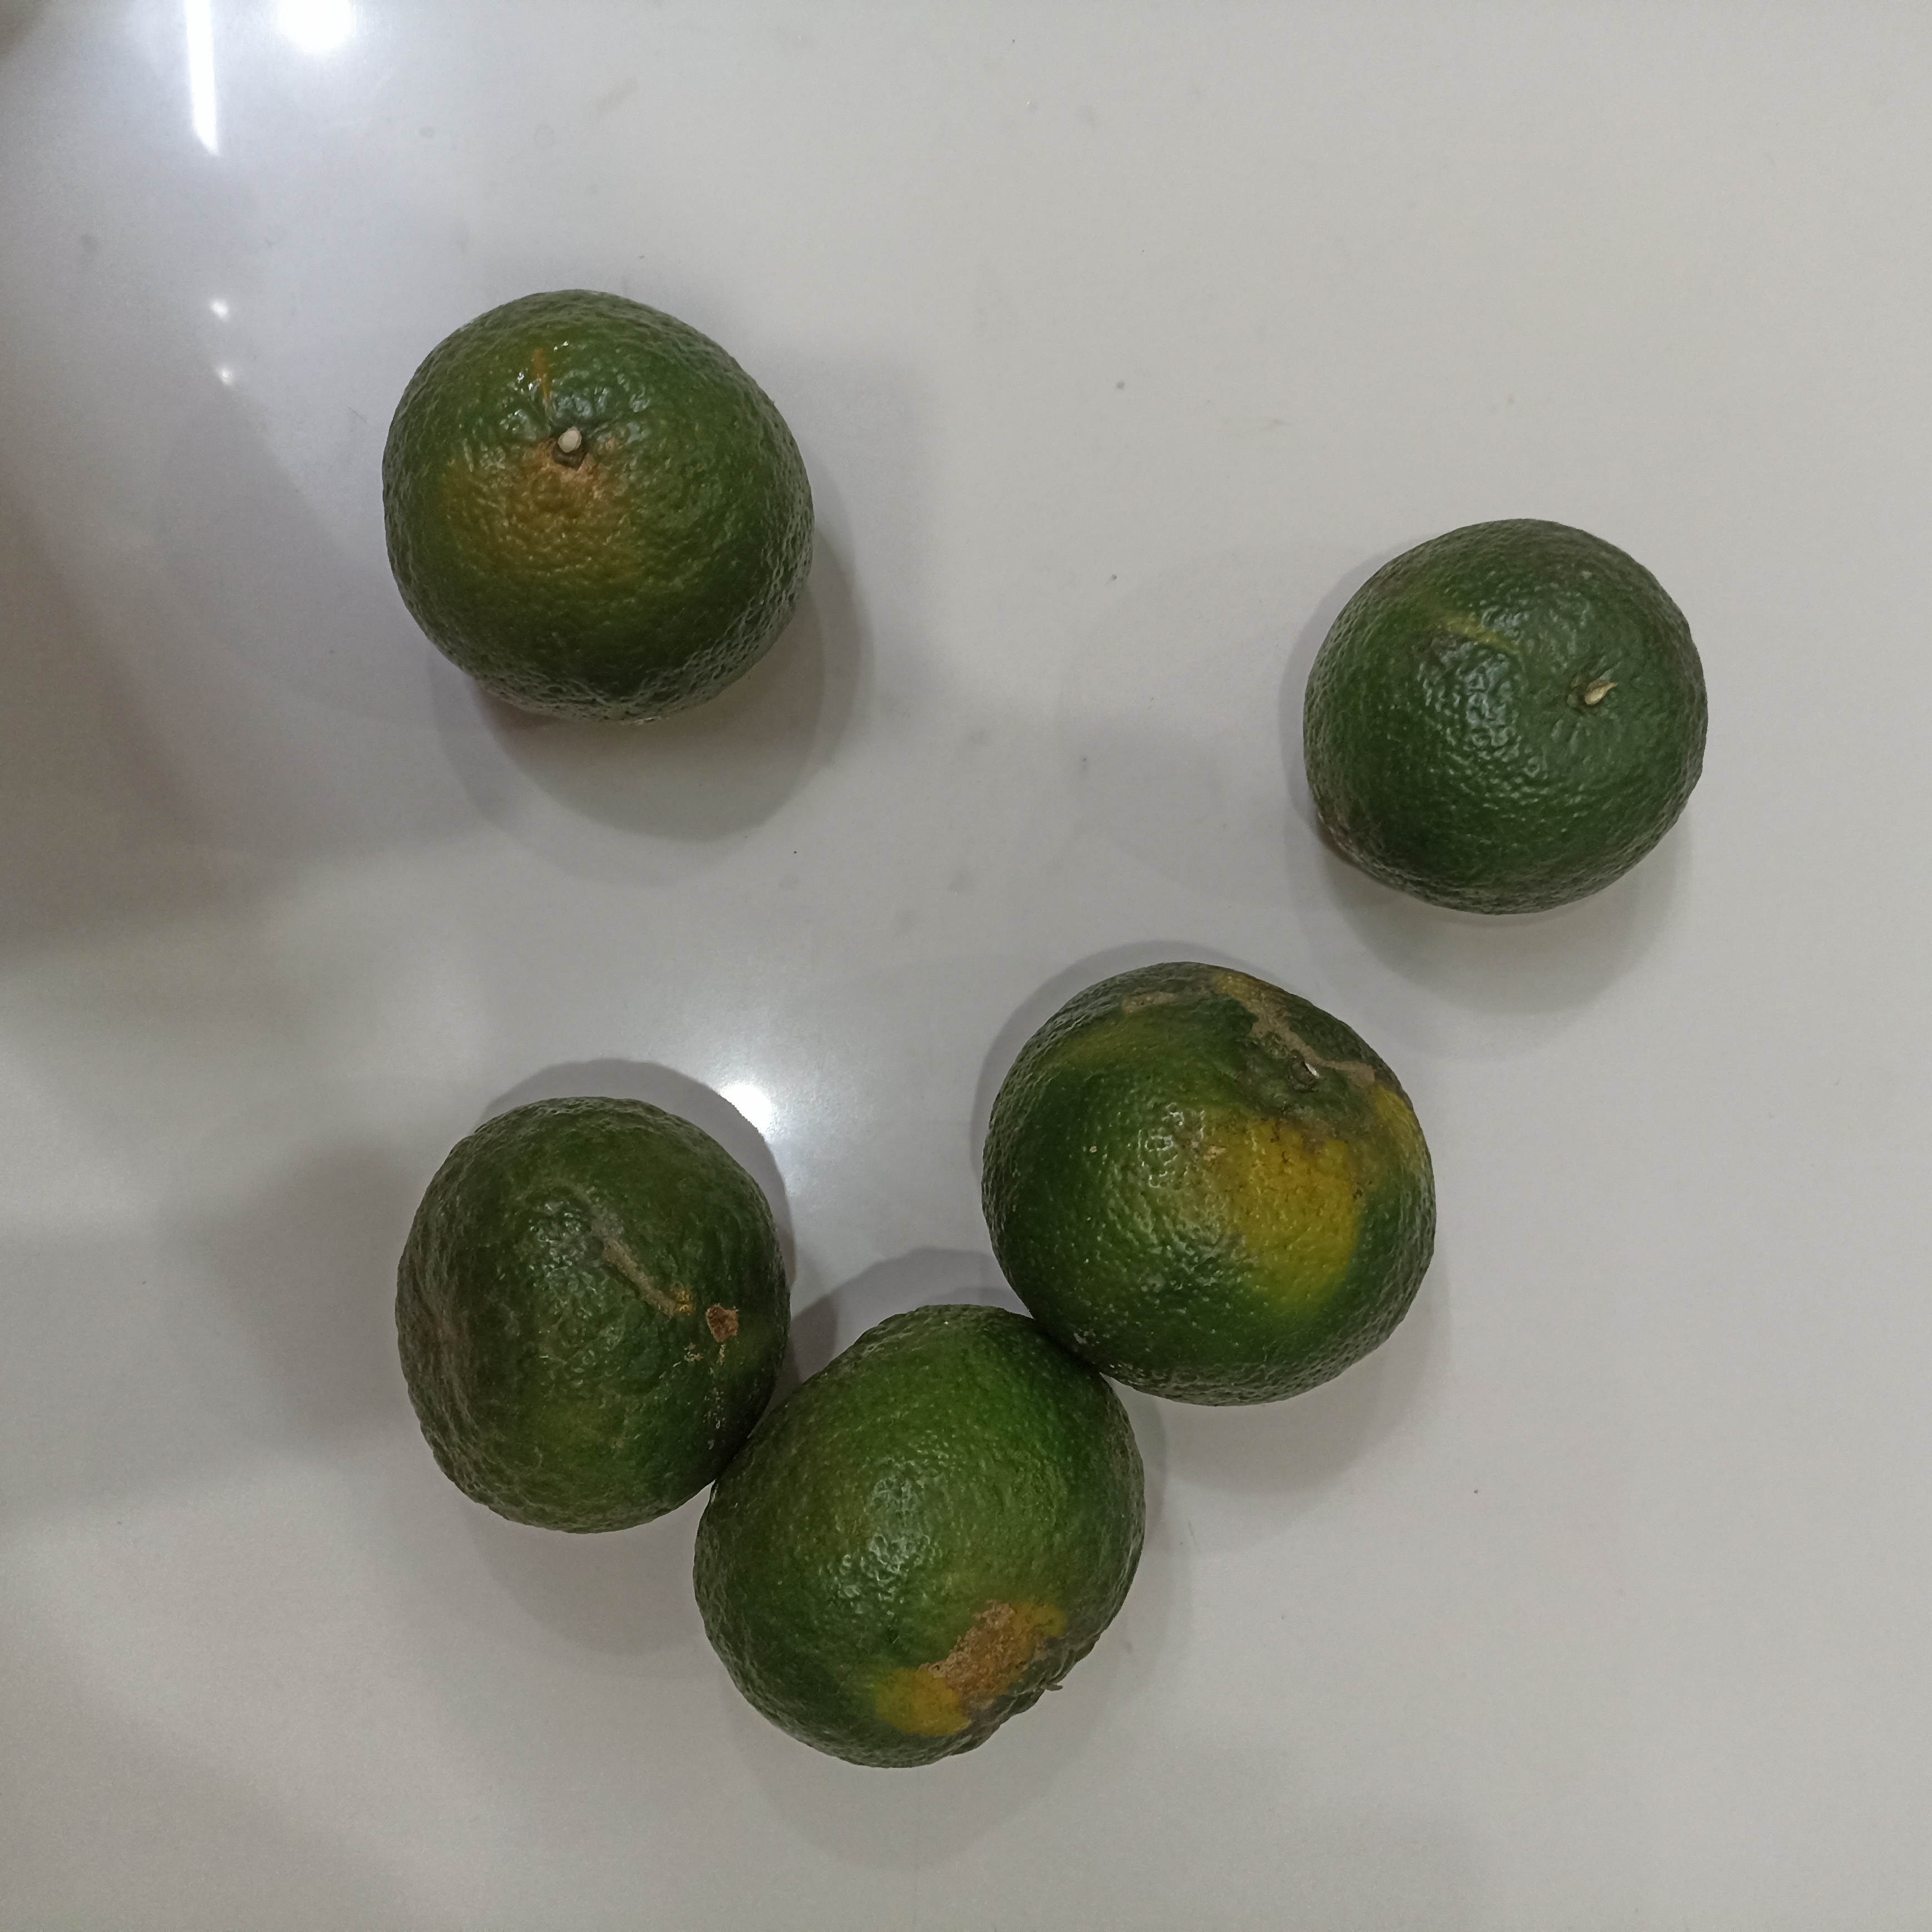Cam: (688, 1299, 1149, 1773), (979, 959, 1440, 1407), (383, 290, 814, 738), (391, 1094, 790, 1531), (1302, 520, 1707, 919)
